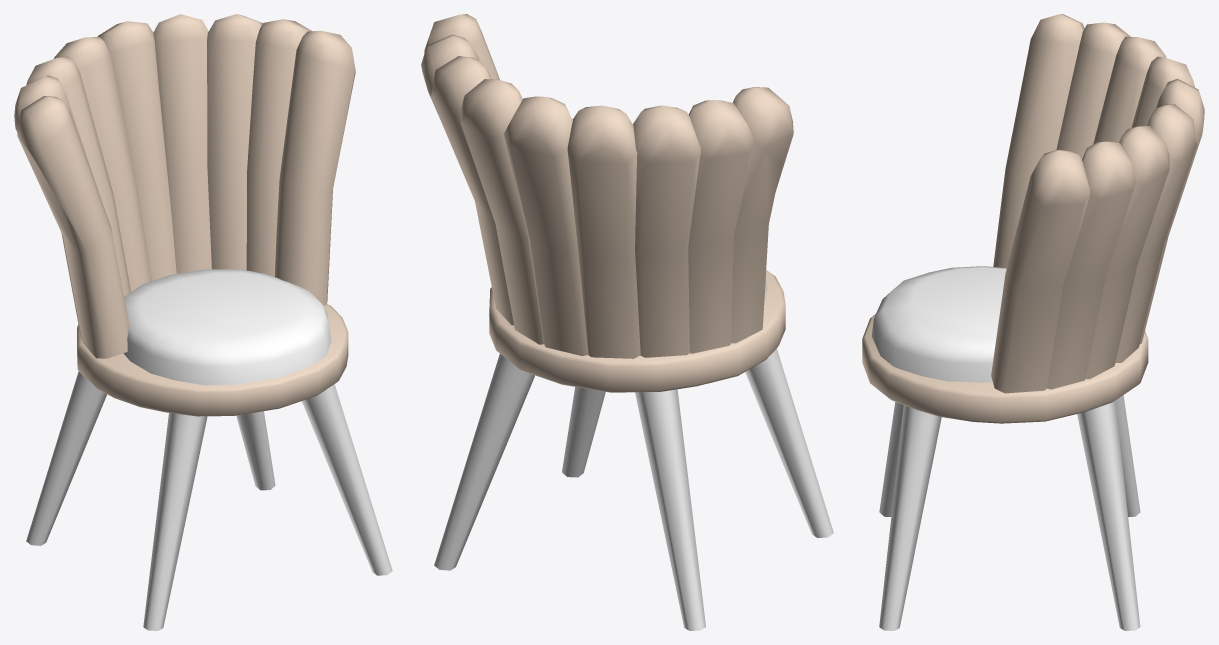
Rendered from Dining Chair_A.fbx.
3 renders of one model, left to right at view 1: azimuth 30°, elevation 25°; view 2: azimuth 150°, elevation 25°; view 3: azimuth 270°, elevation 25°, orthographic. The views are drawn at different scales.
Parts seen in each view (by area): view 1: polySurface13, polySurface1, polySurface2, polySurface3.002, polySurface3, polySurface3.003, polySurface3.001; view 2: polySurface13, polySurface2, polySurface3.003, polySurface3.001, polySurface3.002, polySurface3; view 3: polySurface13, polySurface1, polySurface2, polySurface3.001, polySurface3, polySurface3.003, polySurface3.002.
Part boxes in pixels (left/top/right/bottom): polySurface13: left=14, top=14, right=355, bottom=358; polySurface1: left=123, top=269, right=331, bottom=385; polySurface2: left=77, top=304, right=348, bottom=416; polySurface3.002: left=143, top=413, right=207, bottom=630; polySurface3: left=302, top=384, right=392, bottom=575; polySurface3.003: left=26, top=371, right=106, bottom=545; polySurface3.001: left=236, top=411, right=275, bottom=490; polySurface13: left=421, top=14, right=793, bottom=358; polySurface2: left=489, top=270, right=785, bottom=392; polySurface3.003: left=635, top=389, right=705, bottom=630; polySurface3.001: left=434, top=354, right=534, bottom=570; polySurface3.002: left=745, top=348, right=833, bottom=537; polySurface3: left=562, top=387, right=605, bottom=477; polySurface13: left=991, top=14, right=1204, bottom=393; polySurface1: left=872, top=266, right=1006, bottom=382; polySurface2: left=862, top=314, right=1148, bottom=423; polySurface3.001: left=1077, top=401, right=1140, bottom=630; polySurface3: left=879, top=405, right=941, bottom=630; polySurface3.003: left=1115, top=395, right=1140, bottom=516; polySurface3.002: left=879, top=402, right=903, bottom=516.
Size of the model in its own units: 120 by 167 by 106.
